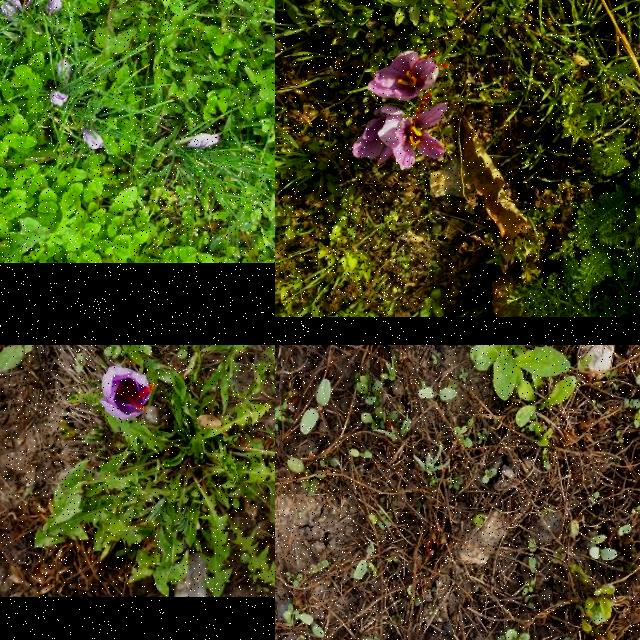flower: (369, 50, 451, 100), (101, 366, 151, 420), (185, 132, 222, 150), (84, 130, 104, 150), (51, 91, 69, 107), (49, 0, 65, 12)
overlap: (353, 96, 449, 172)
